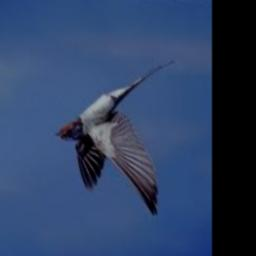Swallow: (57, 61, 175, 217)
